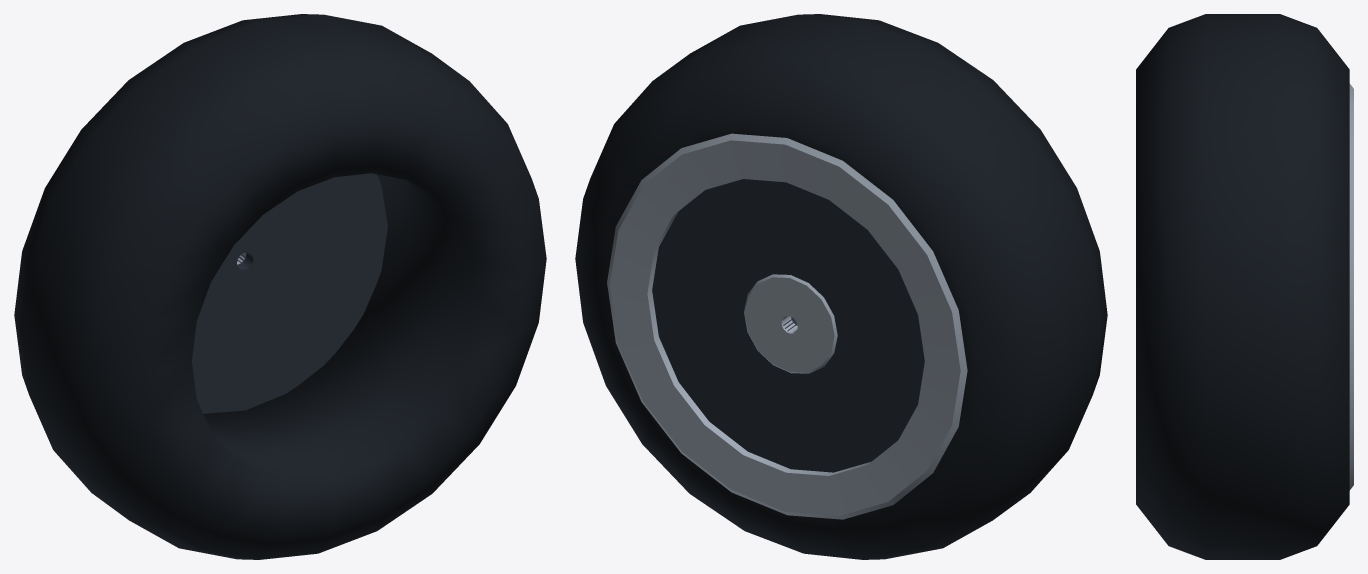
3 renders of one model, left to right at view 1: azimuth 30°, elevation 25°; view 2: azimuth 150°, elevation 25°; view 3: azimuth 270°, elevation 25°, orthographic.
Parts seen in each view (by area): view 1: W02_WHEEL_Library_Tire, W02_WHEEL_Library_InsetHub; view 2: W02_WHEEL_Library_Tire, W02_WHEEL_Library_InsetHub, W02_WHEEL_Library_RimLip, W02_WHEEL_Library_AxleCap; view 3: W02_WHEEL_Library_Tire, W02_WHEEL_Library_RimLip.
Part boxes in pixels (<box>): W02_WHEEL_Library_Tire: <box>14,14,546,559</box>; W02_WHEEL_Library_InsetHub: <box>192,173,387,413</box>; W02_WHEEL_Library_Tire: <box>575,14,1107,559</box>; W02_WHEEL_Library_InsetHub: <box>652,179,924,472</box>; W02_WHEEL_Library_RimLip: <box>607,133,967,519</box>; W02_WHEEL_Library_AxleCap: <box>744,274,837,373</box>; W02_WHEEL_Library_Tire: <box>1136,14,1349,559</box>; W02_WHEEL_Library_RimLip: <box>1349,83,1353,490</box>.
Size of the model in its own units: 2.95 by 2.95 by 1.17.
